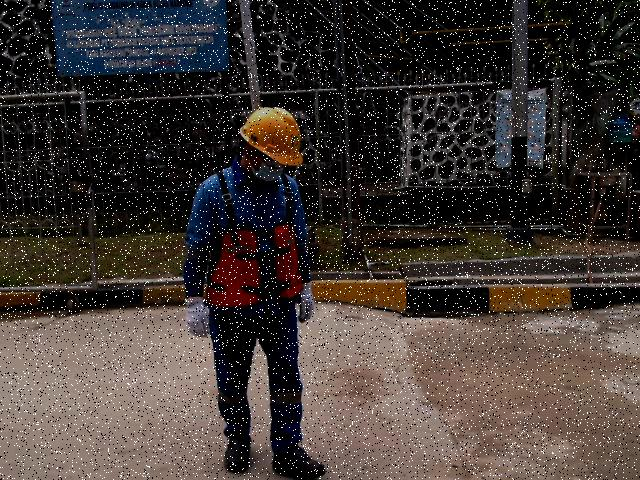glasses: (254, 150, 286, 170)
gloves: (182, 292, 212, 340), (292, 280, 322, 324)
helmet: (238, 105, 308, 166)
mask: (251, 163, 283, 183)
safety-shoes: (267, 444, 329, 479), (220, 430, 254, 475)
vest: (204, 226, 307, 312)
